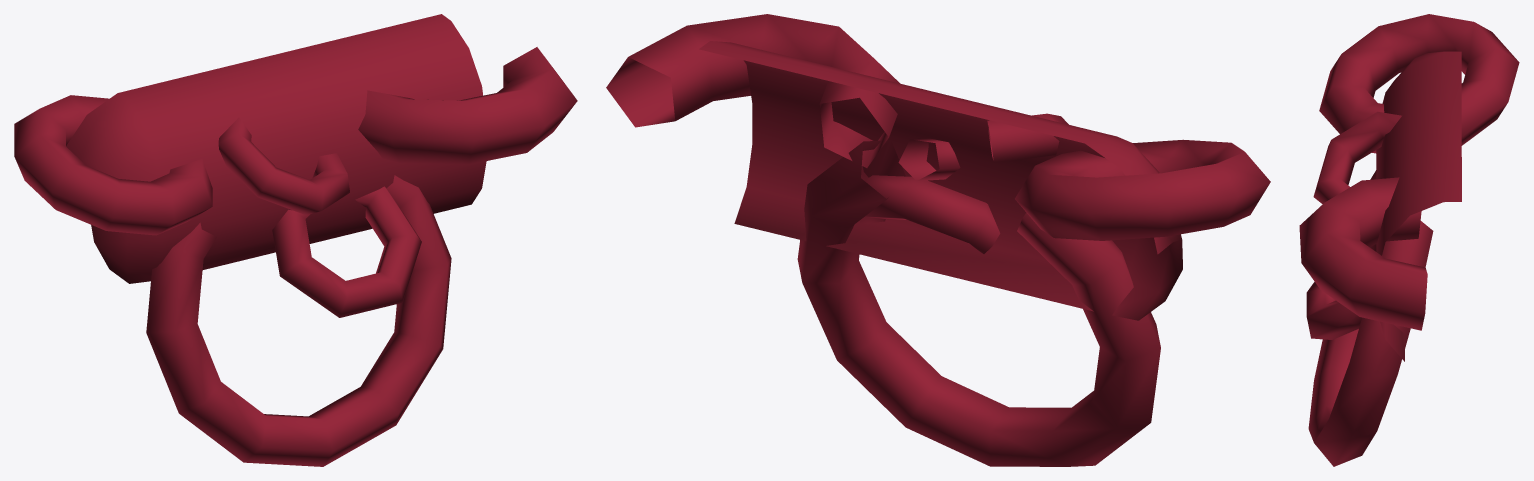
The model's file is Surface_CornerRoad.fbx.
3 renders of one model, left to right at view 1: azimuth 30°, elevation 25°; view 2: azimuth 150°, elevation 25°; view 3: azimuth 270°, elevation 25°, orthographic. The views are drawn at different scales.
Parts seen in each view (by area): view 1: Surface_CornerRoad; view 2: Surface_CornerRoad; view 3: Surface_CornerRoad.
Part boxes in pixels (<box>): Surface_CornerRoad: <box>14,14,577,466</box>; Surface_CornerRoad: <box>606,14,1270,466</box>; Surface_CornerRoad: <box>1299,14,1519,466</box>.
Bounding box in the file's own units: 2971 × 1875 × 1110.
